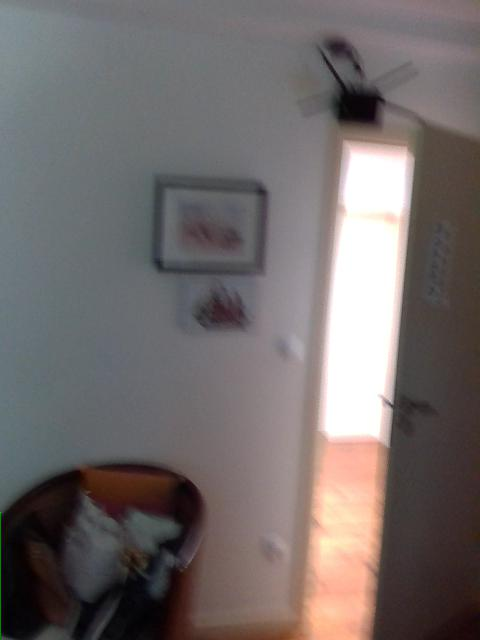semi_door: (294, 115, 479, 638)
